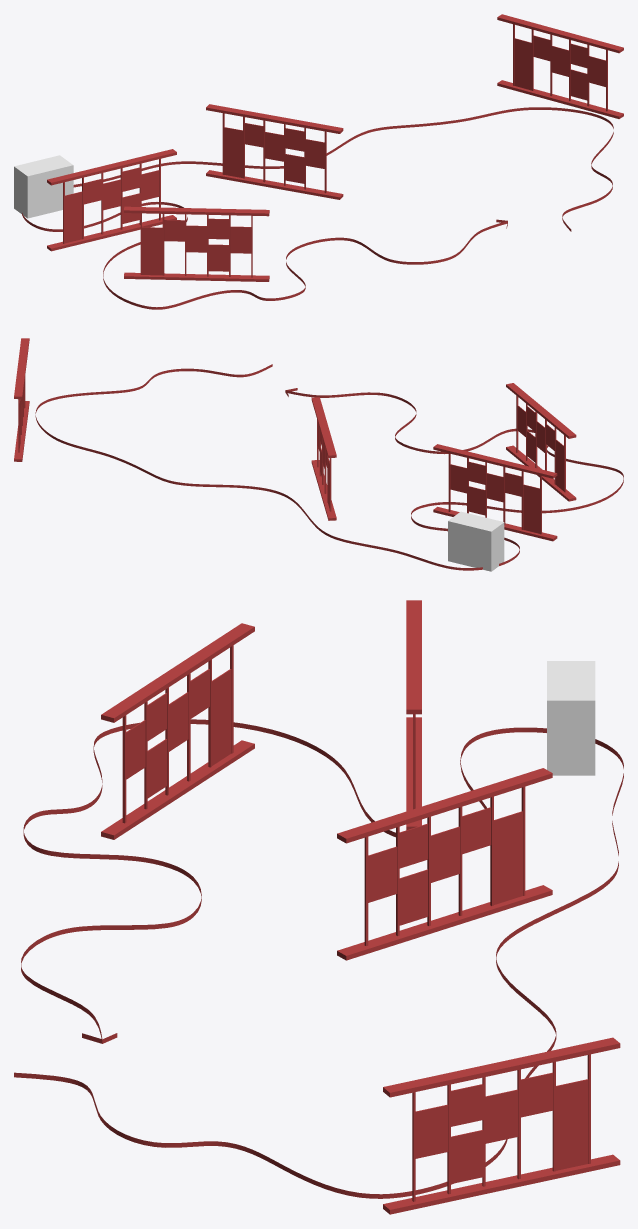
The model's file is MODELLO2.obj.
3 views of the same model, one above another, from view 1: azimuth 30°, elevation 25°; view 2: azimuth 150°, elevation 25°; view 3: azimuth 270°, elevation 25° (orthographic). The views are drawn at different scales.
Visible parts, largest first — view 1: Obj_000003, Obj_000143, Obj_000109, Obj_000107, Obj_000093, Obj_000106, Obj_000121, Obj_000136, Obj_000092, Obj_000095, Obj_000137, Obj_000134 (+18 smaller); view 2: Obj_000003, Obj_000143, Obj_000121, Obj_000123, Obj_000107, Obj_000093, Obj_000136, Obj_000106, Obj_000120, Obj_000092, Obj_000125, Obj_000124 (+5 smaller); view 3: Obj_000003, Obj_000143, Obj_000136, Obj_000093, Obj_000134, Obj_000137, Obj_000092, Obj_000107, Obj_000095, Obj_000106, Obj_000121, Obj_000109 (+14 smaller).
Boxes of the visible parts, box(x1,y1,x2,y2) form: Obj_000003: box(22, 107, 613, 309); Obj_000143: box(14, 155, 73, 218); Obj_000109: box(142, 227, 162, 275); Obj_000107: box(124, 206, 269, 216); Obj_000093: box(206, 104, 343, 133); Obj_000106: box(124, 272, 269, 281); Obj_000121: box(47, 149, 176, 185); Obj_000136: box(497, 14, 623, 53); Obj_000092: box(206, 170, 343, 199); Obj_000095: box(224, 127, 242, 177); Obj_000137: box(497, 80, 623, 118); Obj_000134: box(514, 38, 531, 90); Obj_000003: box(35, 364, 623, 570); Obj_000143: box(448, 511, 504, 571); Obj_000121: box(433, 444, 557, 478); Obj_000123: box(523, 484, 539, 533); Obj_000107: box(506, 383, 576, 438); Obj_000093: box(311, 397, 336, 457); Obj_000136: box(14, 338, 29, 399); Obj_000106: box(506, 445, 576, 501); Obj_000120: box(433, 506, 557, 541); Obj_000092: box(311, 460, 336, 520); Obj_000125: box(468, 486, 485, 515); Obj_000124: box(486, 473, 503, 502); Obj_000003: box(14, 719, 623, 1198); Obj_000143: box(547, 661, 595, 775); Obj_000136: box(383, 1037, 620, 1097); Obj_000093: box(337, 768, 552, 843); Obj_000134: box(556, 1079, 588, 1170); Obj_000137: box(383, 1154, 620, 1214); Obj_000092: box(337, 885, 552, 960); Obj_000107: box(101, 623, 254, 722); Obj_000095: box(494, 811, 522, 904); Obj_000106: box(101, 740, 254, 839); Obj_000121: box(406, 600, 421, 714); Obj_000109: box(212, 669, 231, 765).
Bounding box in the file's own units: 22555 × 2600 × 11804.
